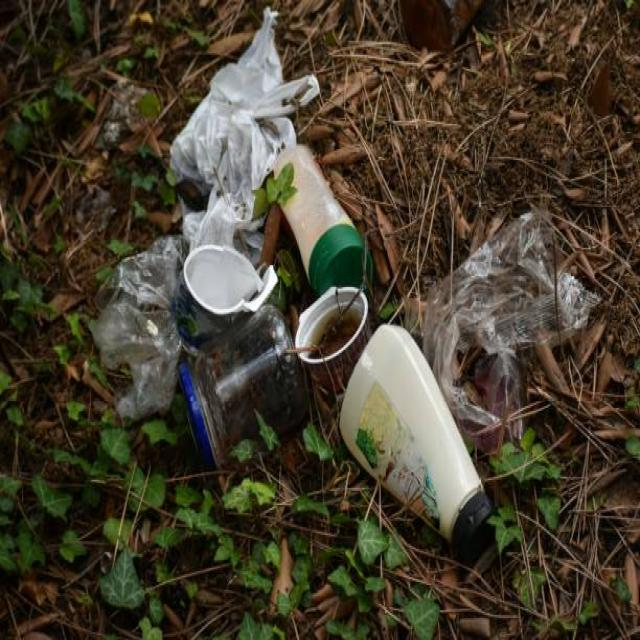glass: (183, 341, 300, 454)
plastic: (336, 350, 487, 530), (278, 172, 357, 292)
